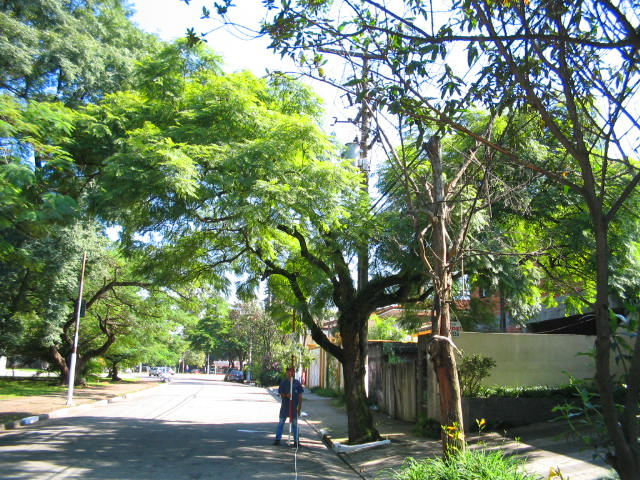stem: (329, 354, 395, 443)
stick: (281, 309, 306, 448)
tree: (112, 39, 549, 444)
